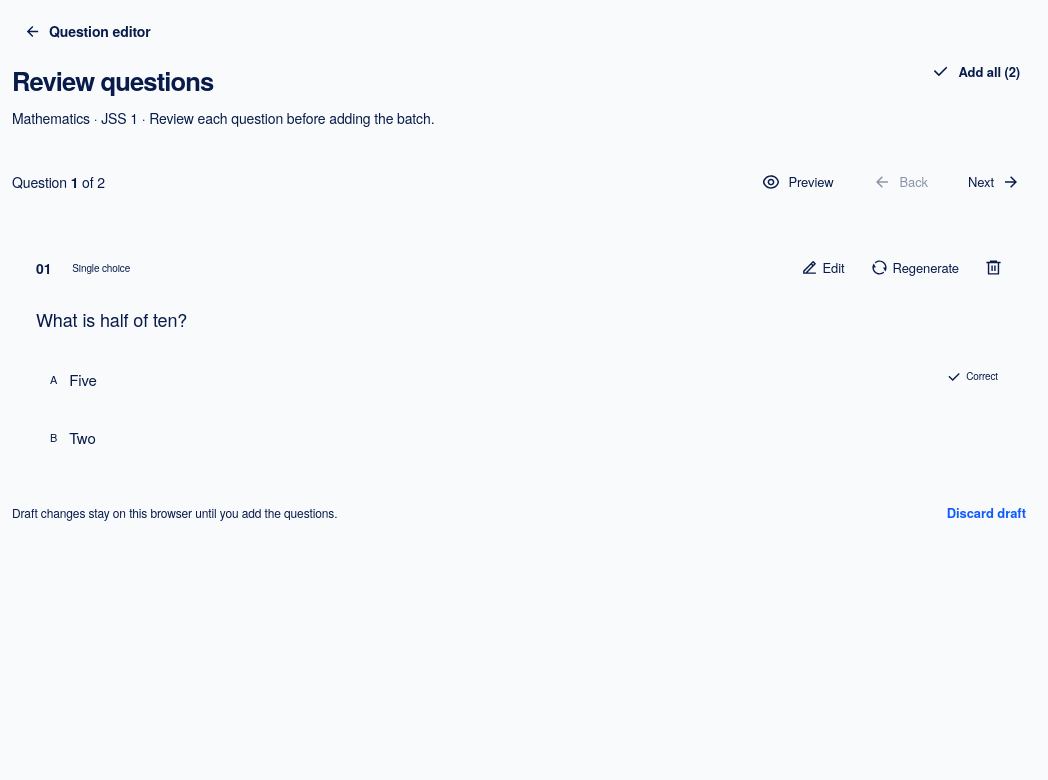
Test: Teacher AI authoring › recovers a failed regeneration using its original operation ID
Click the button with aria-label "Regenerate question 1".
click(915, 268)  # box [860, 251, 969, 285]
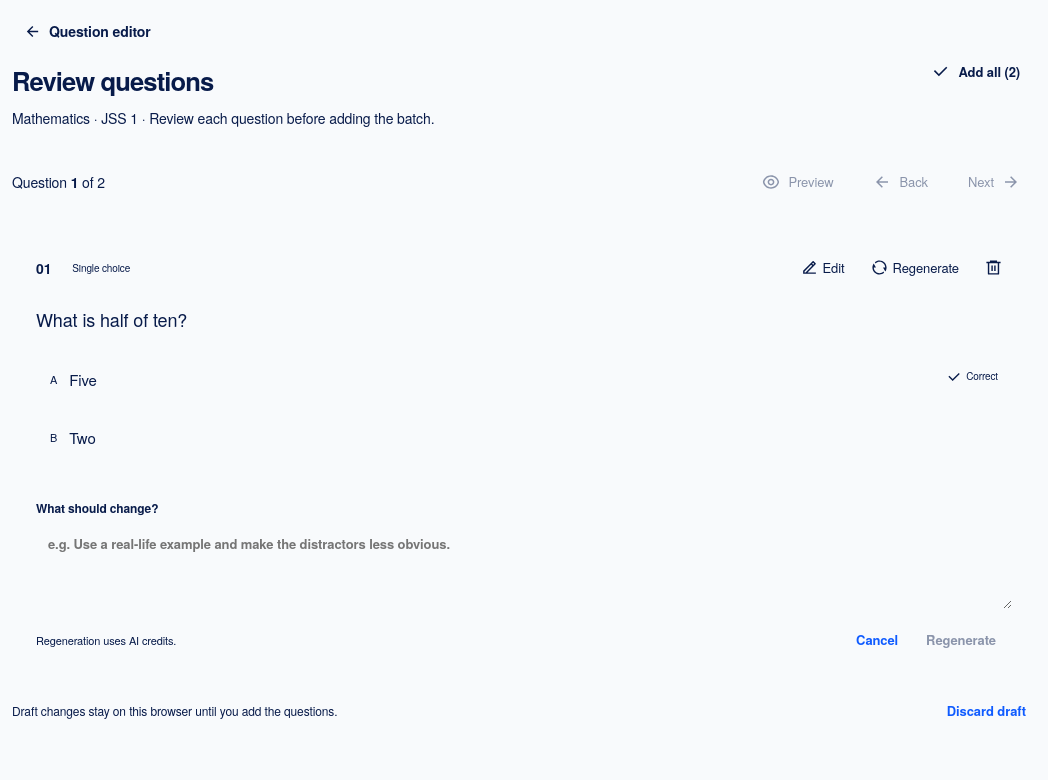
Replace the text in the text box labelled "What should change?" with "Use a shopping example" at point(524, 566), box [36, 524, 1012, 609]
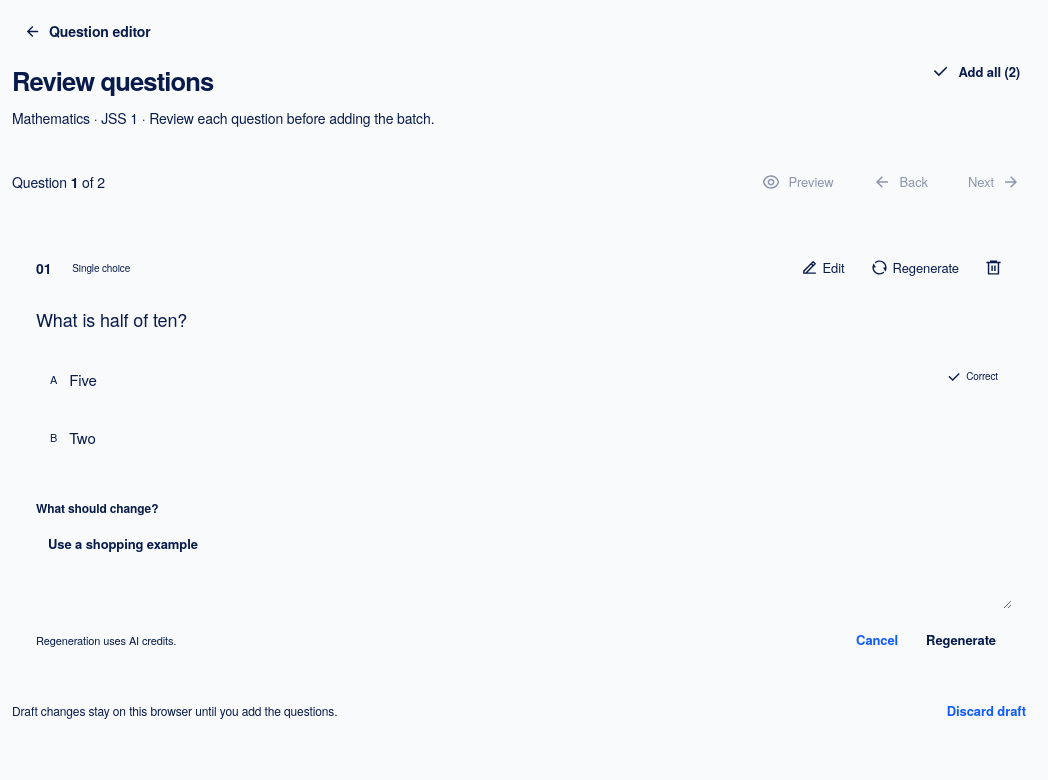
Click the button "Regenerate" in the row of "Regeneration uses AI credits.".
click(961, 640)  # box [910, 619, 1012, 661]
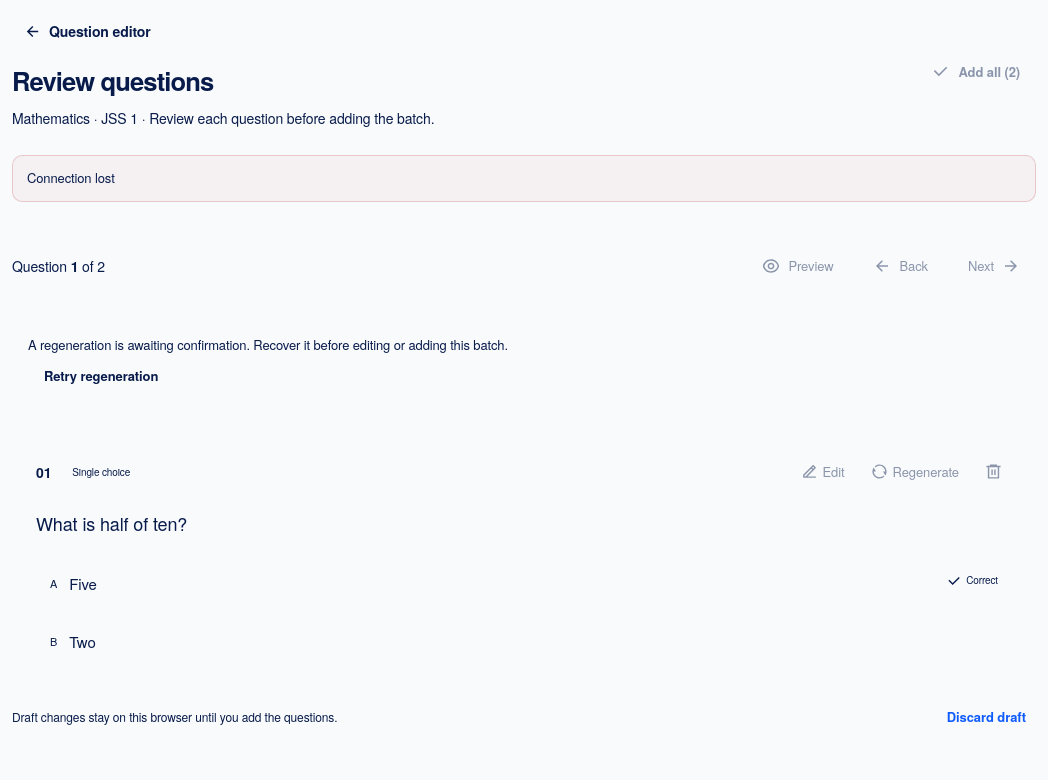
Expected: the text "Connection lost" is shown, [12, 155, 1036, 202]
Expected: the button "Add all (2)" is disabled, [916, 50, 1036, 92]
Click the button "Retry regeneration".
click(101, 376)  # box [28, 355, 174, 397]
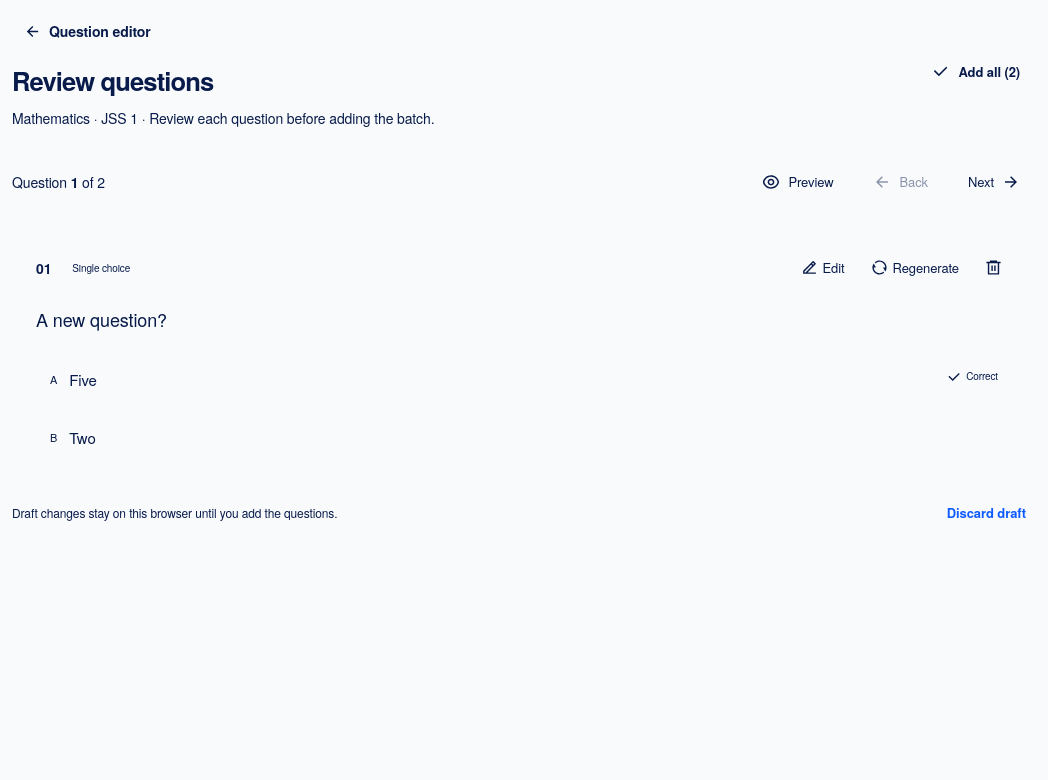
Expected: the heading "A new question?" is shown, [36, 306, 167, 332]
